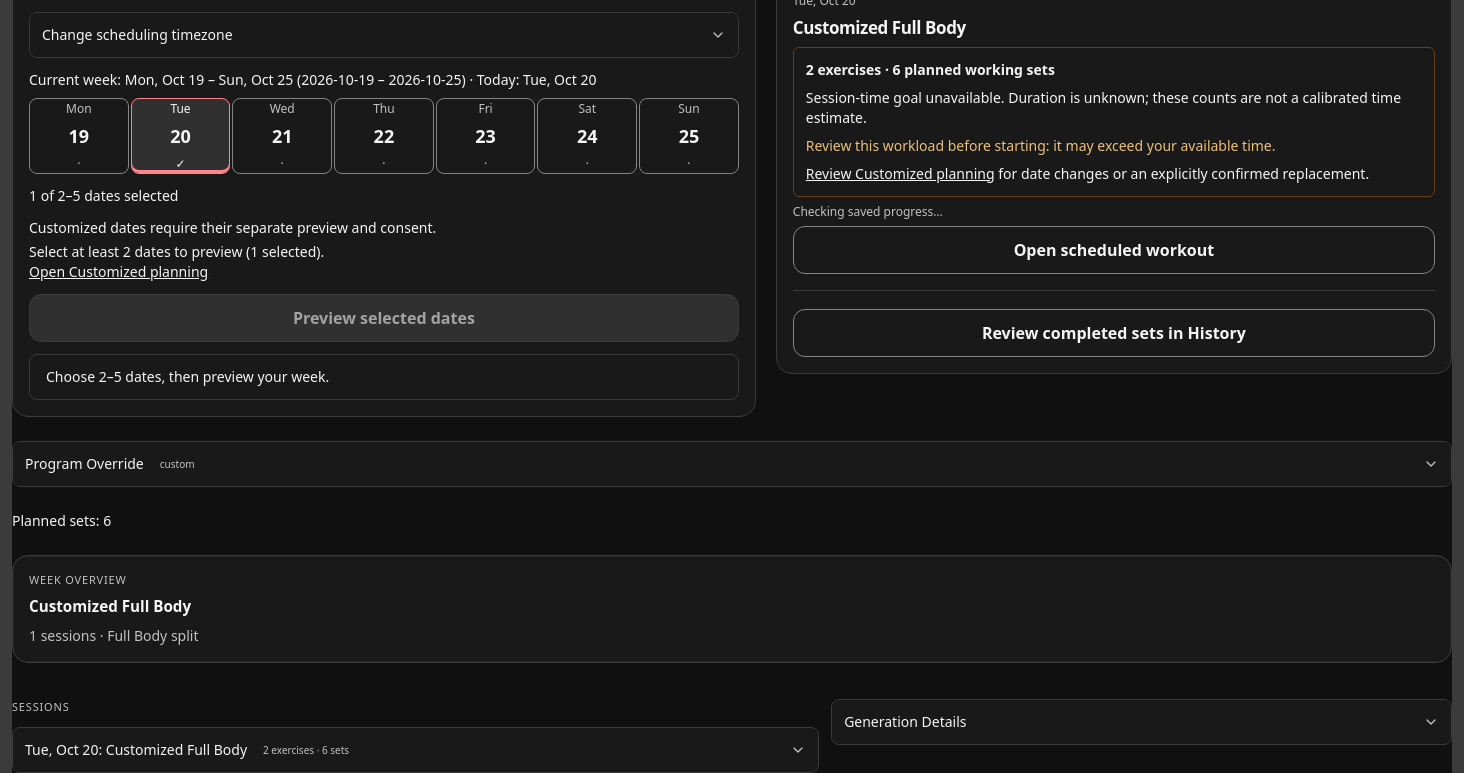
Scenario: Customized Week retains unknown calibration and saved-unit loads without inventing legacy week or coverage claims ({})
(page scrolled)
Expected: the text "Week Overview" is shown, [29,572,127,587]
Step 1. Click the button "Tue, Oct 20: Customized Full Body 2 exercises · 6 sets" → (136, 749), box [13,728,818,772]
(page scrolled)
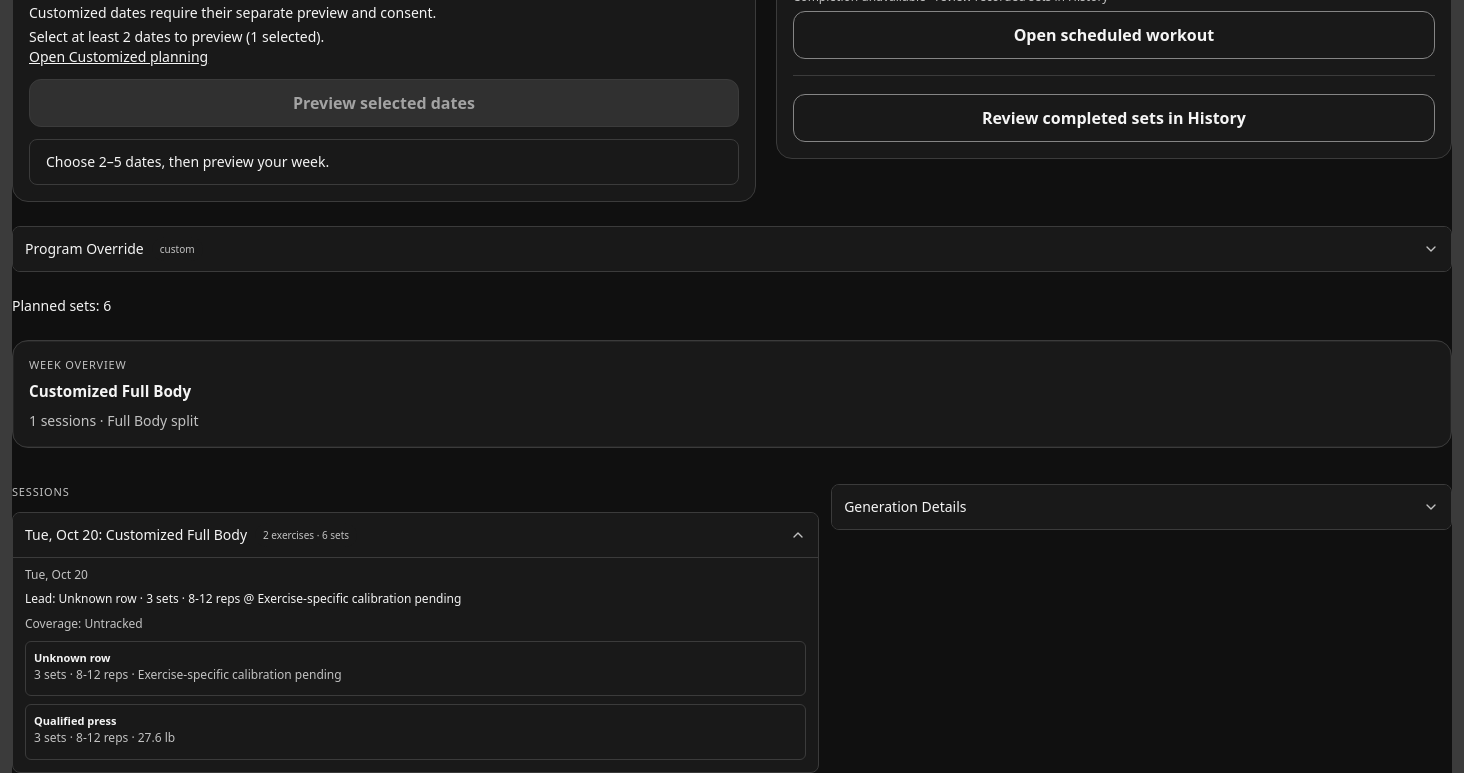
Now the text "Exercise-specific calibration pending" is shown, box [58,590,461,607]
Now the text "3 sets · 8-12 reps · 27.6 lb" is shown, box [34,729,175,746]
